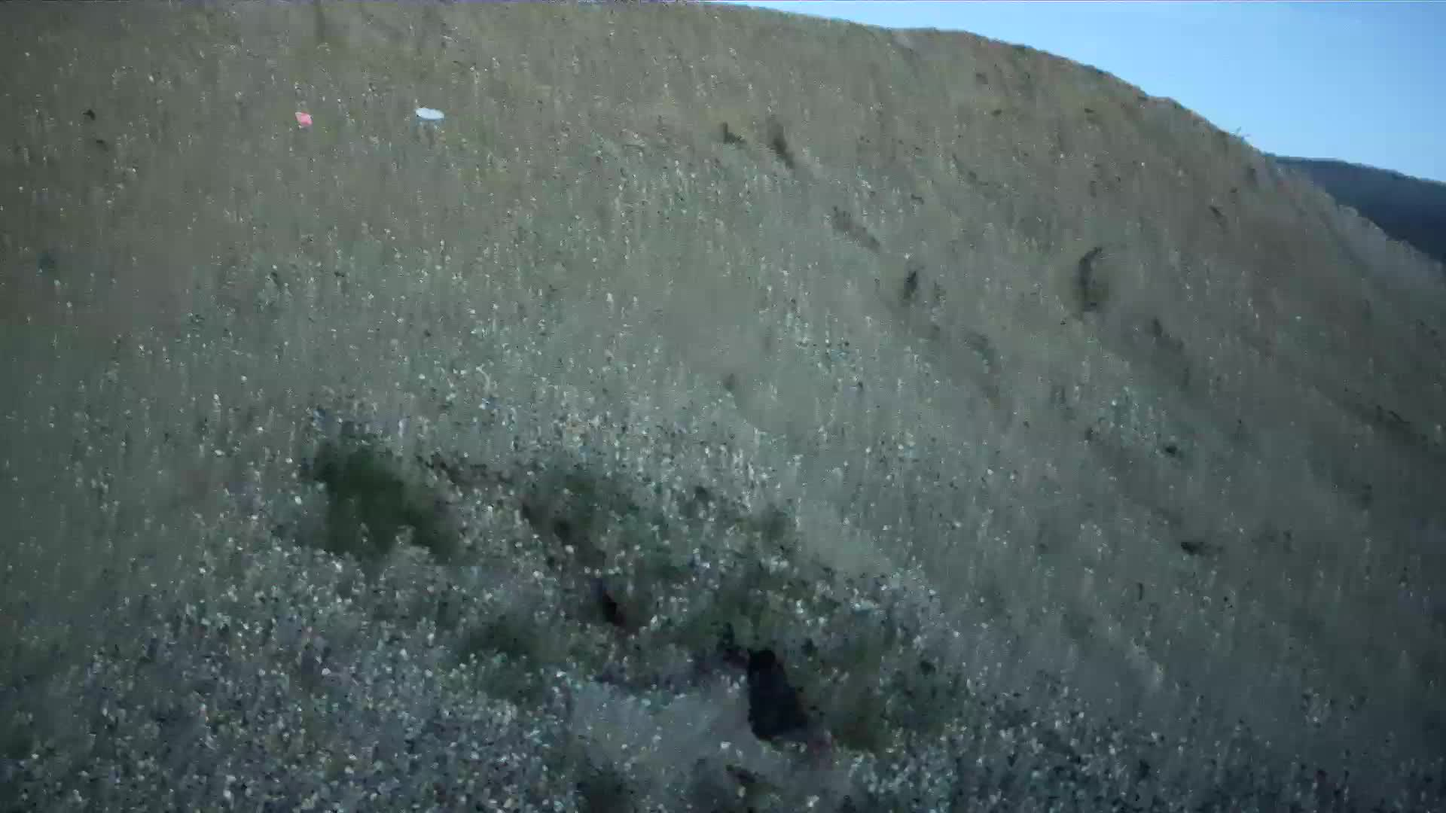Target: (411, 103, 447, 121)
